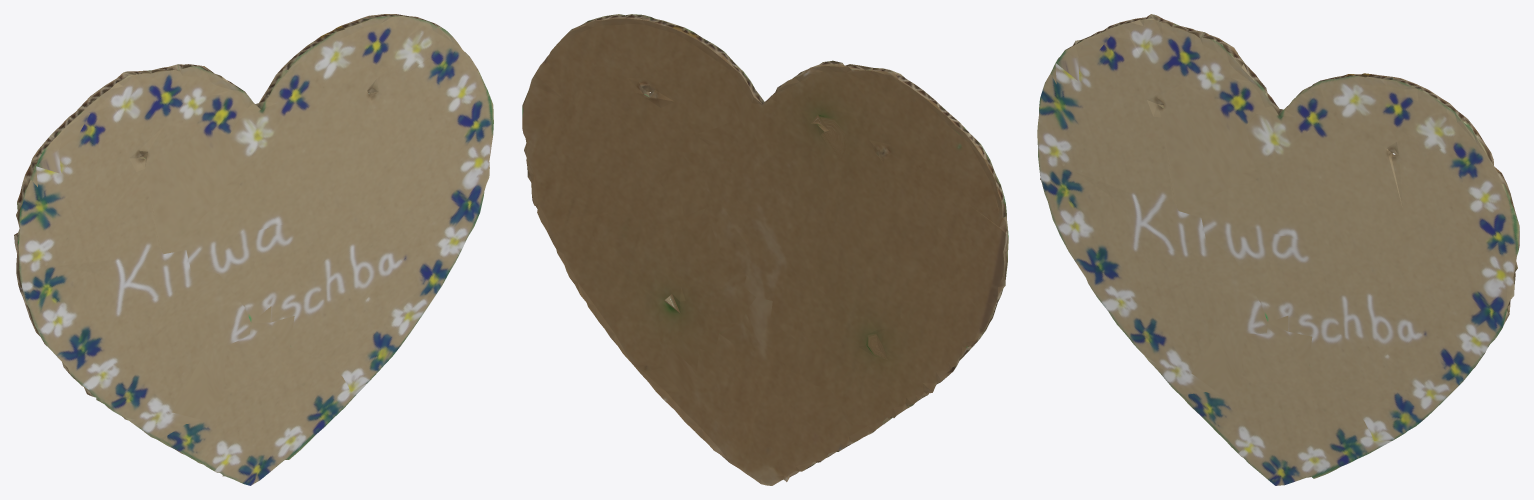
3 views of the same model, side by side, from view 1: azimuth 30°, elevation 25°; view 2: azimuth 150°, elevation 25°; view 3: azimuth 330°, elevation 25° (orthographic).
Visible parts, largest first — view 1: Pappherz Kirwa Eischba_1k; view 2: Pappherz Kirwa Eischba_1k; view 3: Pappherz Kirwa Eischba_1k.
Boxes of the visible parts, x1,y1,x2,y2 form: Pappherz Kirwa Eischba_1k: (14,14,493,485); Pappherz Kirwa Eischba_1k: (522,14,1008,485); Pappherz Kirwa Eischba_1k: (1037,14,1519,485).
Bounding box in the file's own units: 0.2878 × 0.2538 × 0.0105.
Materials: 1 (1 with a texture image).
